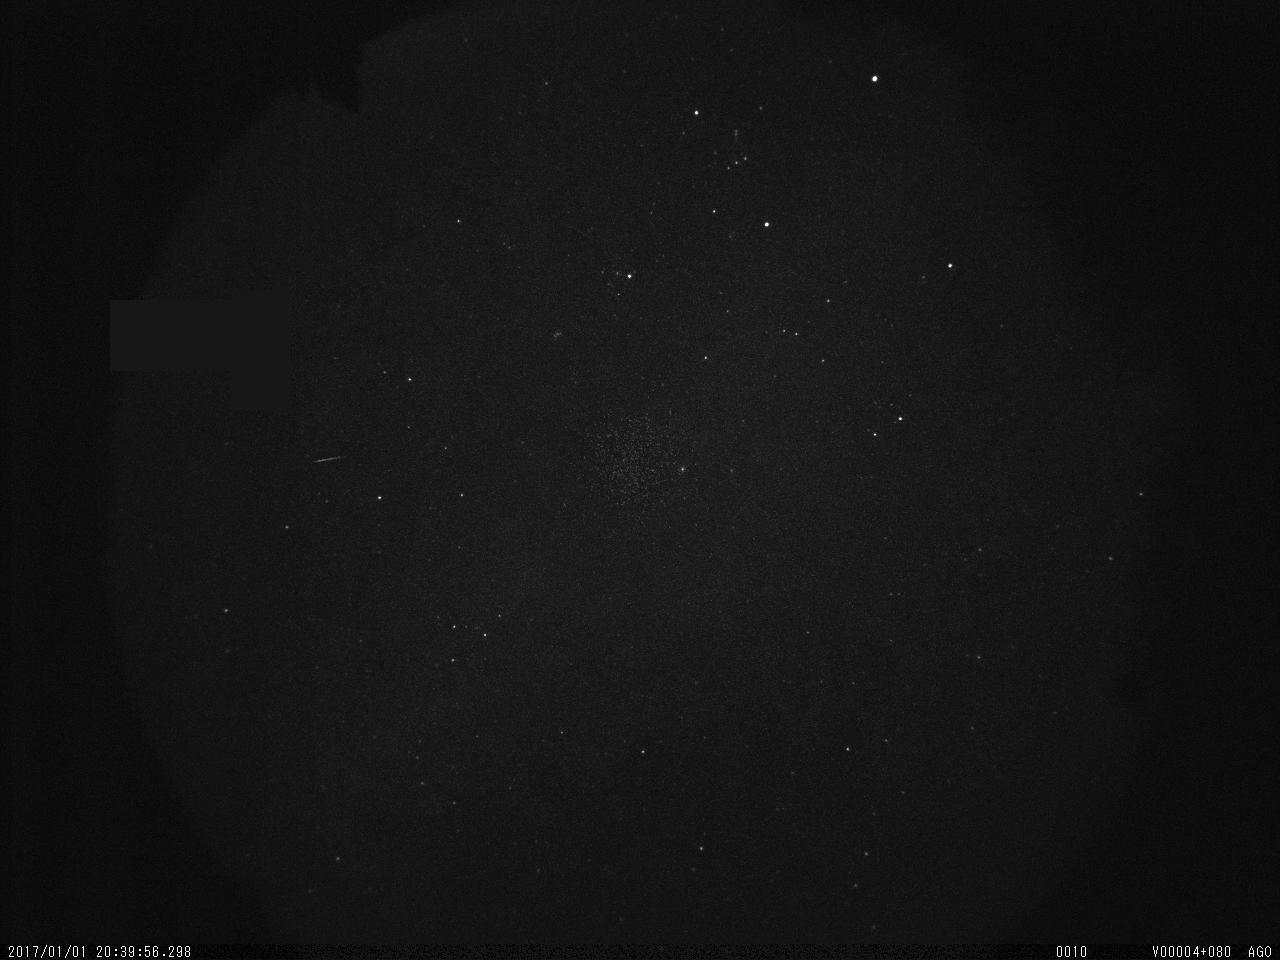meteor: (285, 437, 415, 489)
